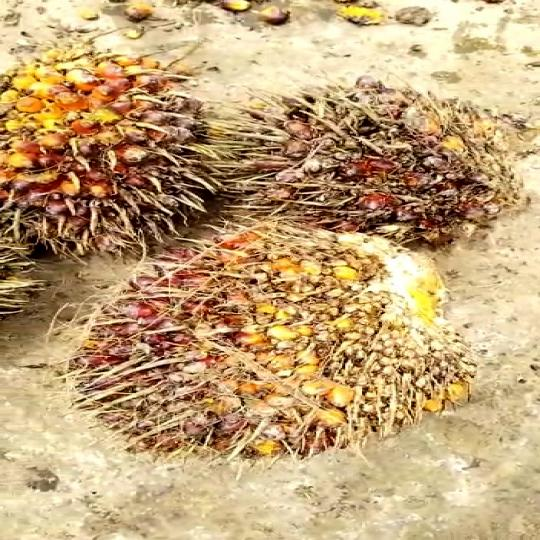masak: (32, 218, 519, 468), (0, 46, 259, 260), (206, 82, 517, 252)
